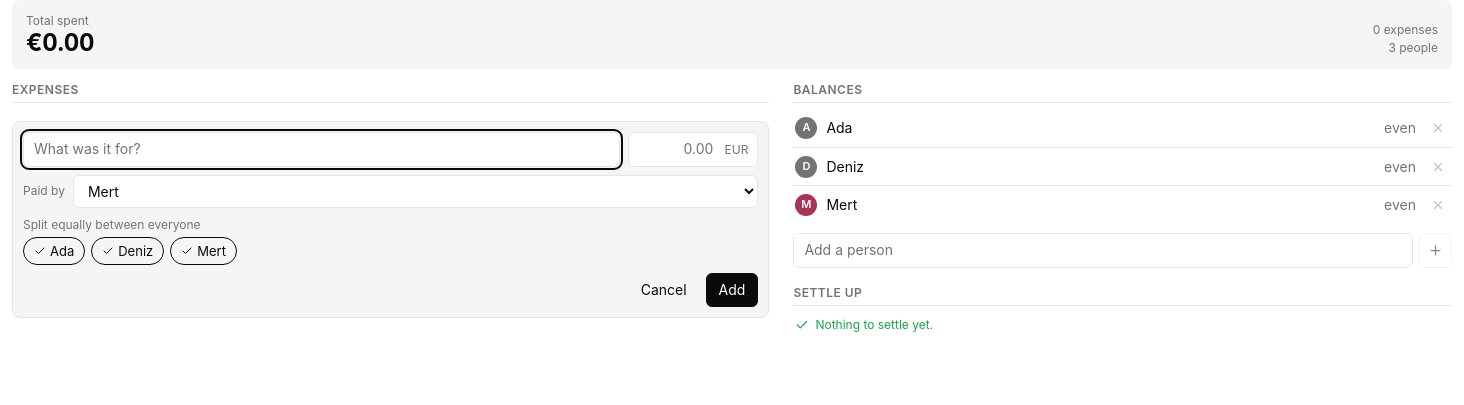
Test: Expenses › splits between a chosen subset, edits and deletes
Earlier steps of the test are not shown.
Later steps or results of the test are not shown.
Type "Taxi" into the field named "Title". click: coordinates (322, 150)
box: [23,132,620,167]
Type "10,01" into the field named "Amount in EUR". click: coordinates (693, 150)
box: [628,132,758,167]
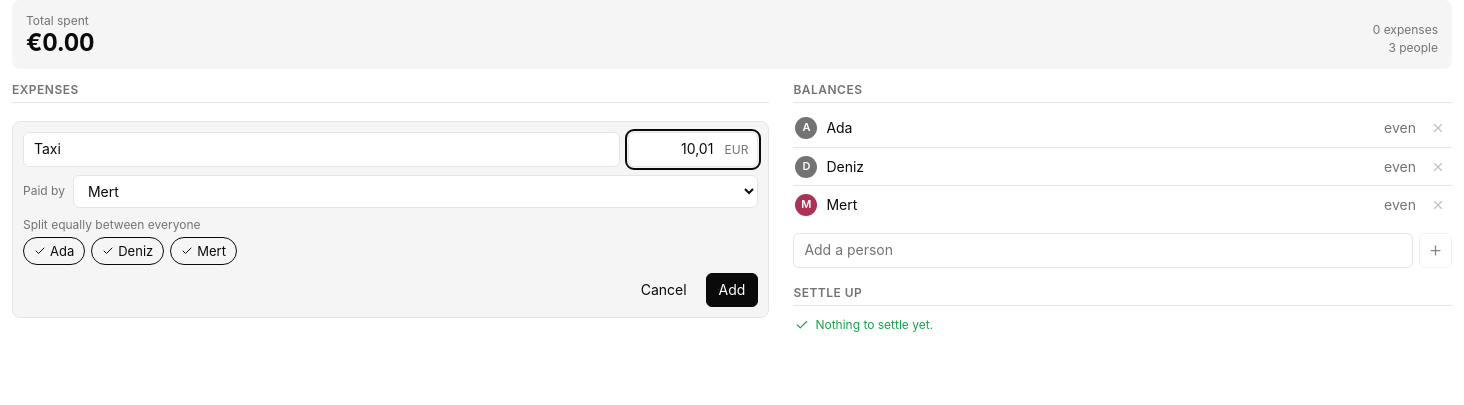
Select "Deniz" in the dropdown labelled "Paid by". click: coordinates (416, 191)
box: [73,175,758,208]
Click the button "Mert". click: coordinates (204, 251)
box: [170,237,237,265]
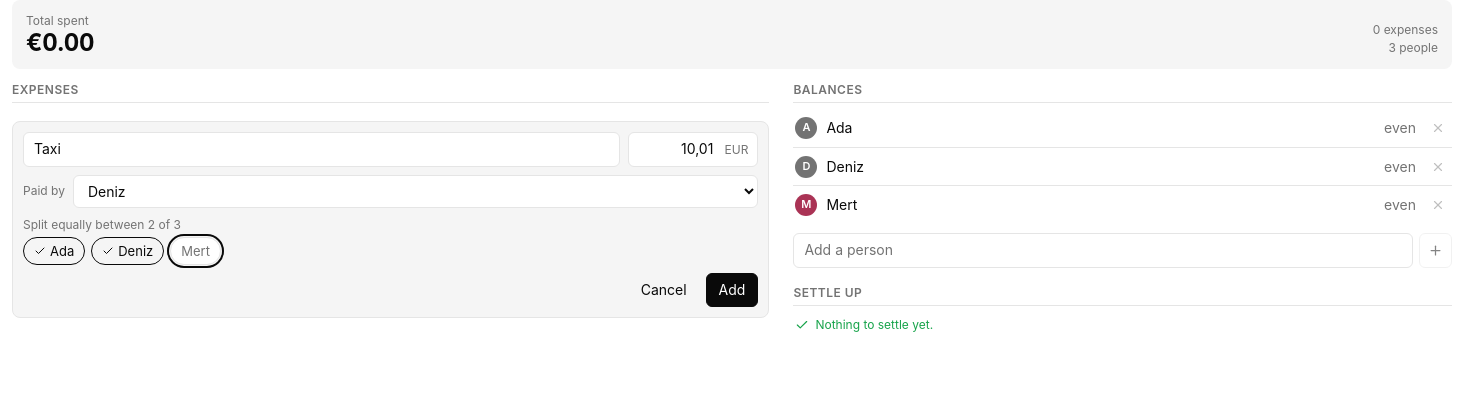
Now the button "Mert" is not pressed, box [170,237,221,265]
Click the button "Add". click: coordinates (732, 290)
box: [706,273,758,307]
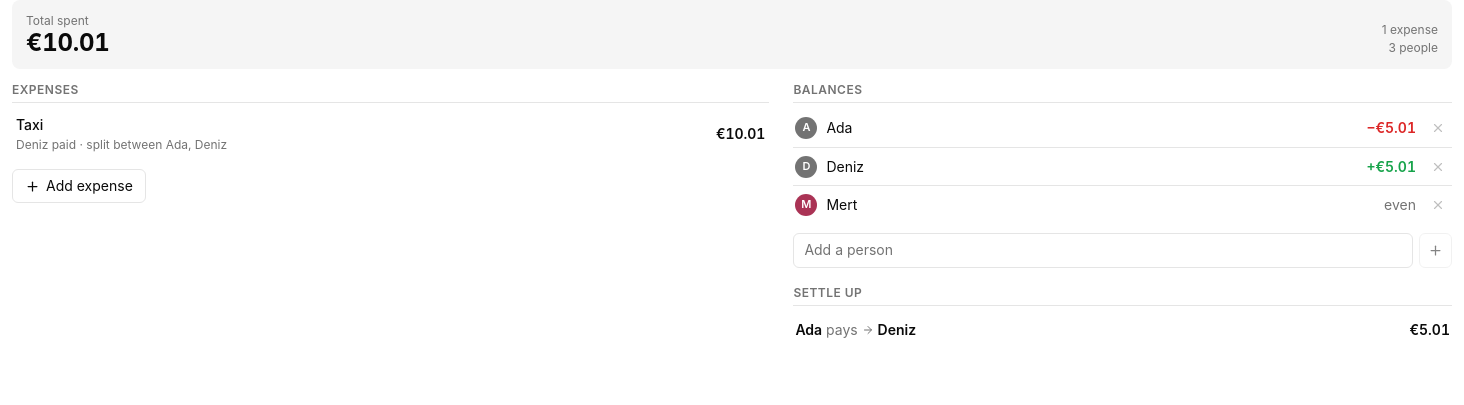
Click the button with aria-label "Edit Taxi". click: coordinates (32, 144)
box: [12,109,769,159]
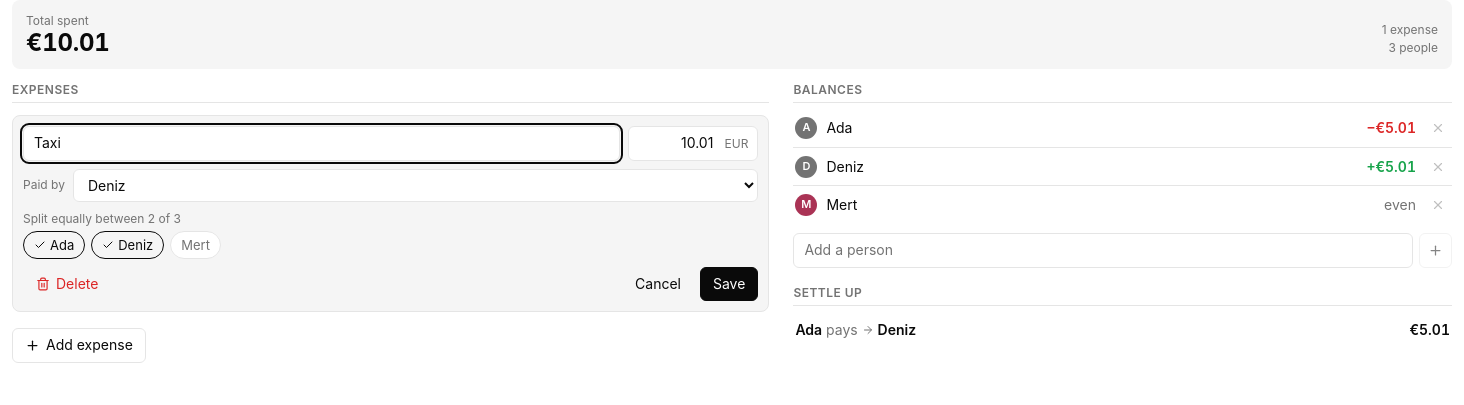
Now the field named "Amount in EUR" holds "10.01"
Replace the text in the field named "Amount in EUR" with "0". click: coordinates (693, 144)
box: [628,126,758,161]
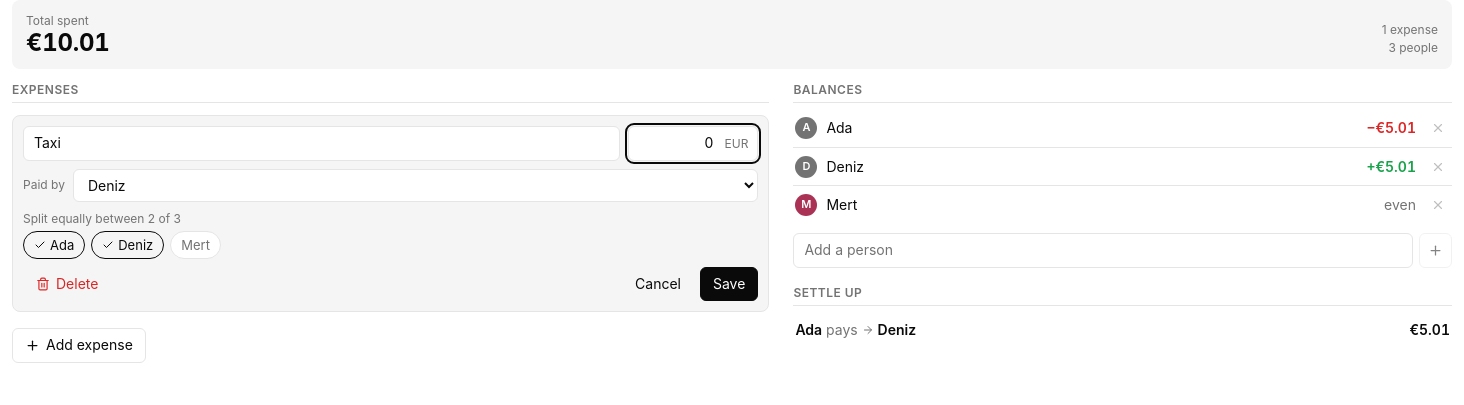
Click the button "Save". click: coordinates (729, 284)
box: [700,267,758,301]
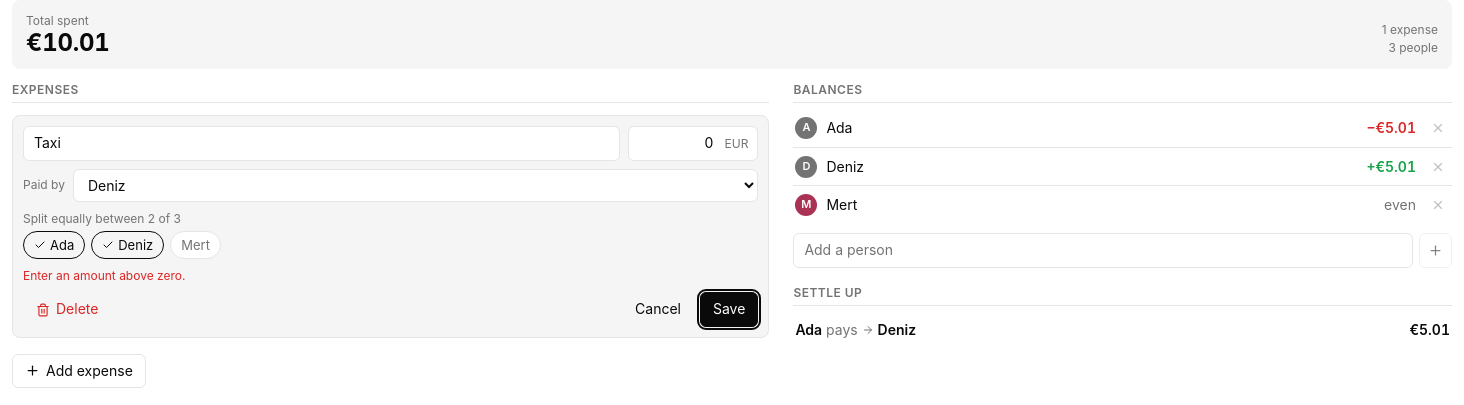
Now the message reads "Enter an amount above zero.", box [23,268,186,283]
